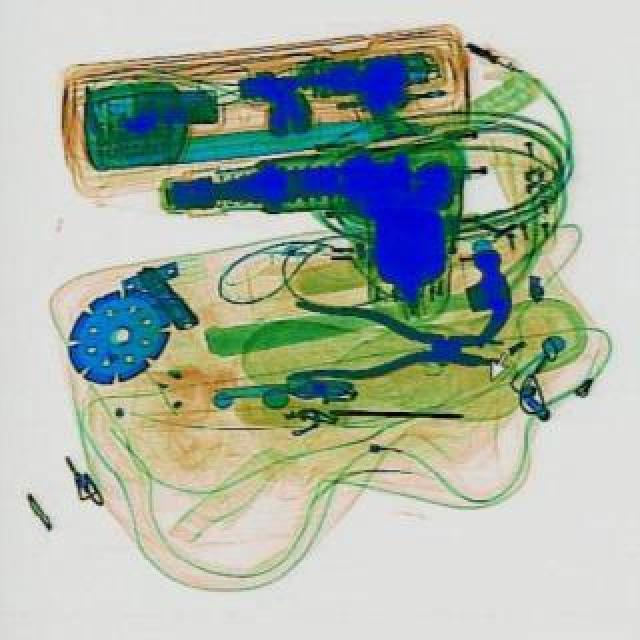wrench: (284, 302, 504, 394)
